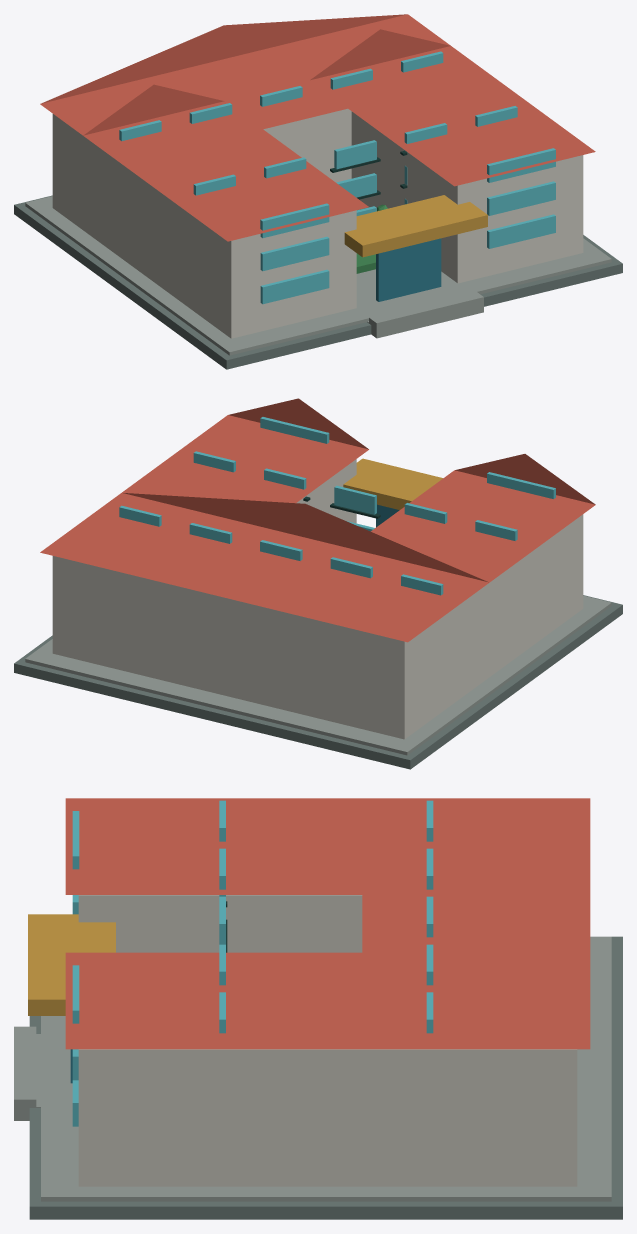
Rendered from school_lv2.glb.
3 renders of one model, top to bottom at view 1: azimuth 30°, elevation 25°; view 2: azimuth 150°, elevation 25°; view 3: azimuth 270°, elevation 25°, orthographic. The views are drawn at different scales.
Visible parts, largest first — view 1: rough, glossy; view 2: rough, glossy; view 3: rough, glossy.
Boxes of the visible parts, x1,y1,x2,y2 form: rough: (14, 14, 622, 369); glossy: (119, 51, 555, 304); rough: (14, 398, 622, 769); glossy: (119, 417, 555, 595); rough: (14, 798, 622, 1219); glossy: (70, 800, 433, 1126).
Bounding box in the file's own units: 9.8 × 3.52 × 9.34.
